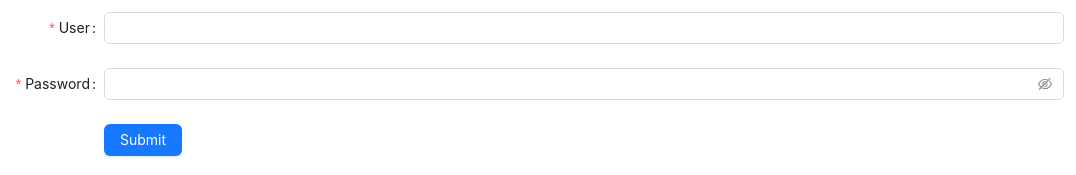
Login Form › Password validation
This screenshot has width=1076, height=175.
Type "Text" into the field labelled "User". click: (584, 28)
box: [104,12,1064,44]
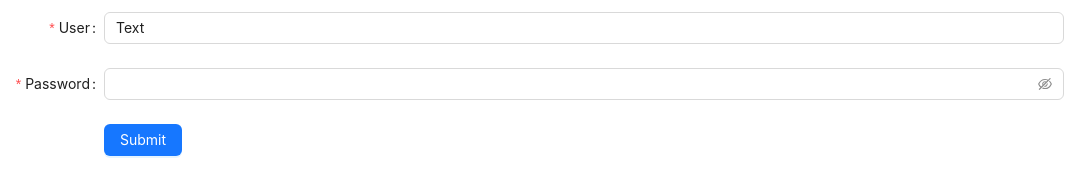
Submit the form from the button "Submit", box [104,124,182,156]
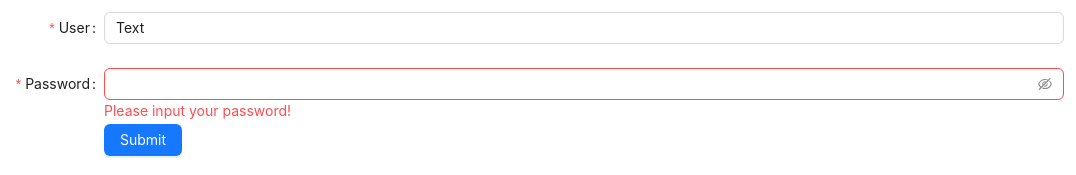
Expected: the text "Please input your password!" is shown, [104,102,291,119]
